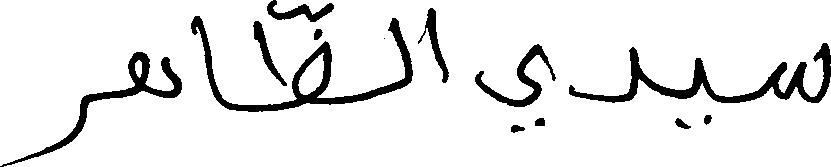X: (255, 0, 331, 116), (475, 39, 554, 137), (0, 90, 88, 166), (569, 42, 638, 107), (774, 38, 830, 107), (128, 47, 180, 102), (195, 11, 220, 108), (392, 13, 412, 95), (429, 3, 447, 87), (693, 53, 707, 129)
